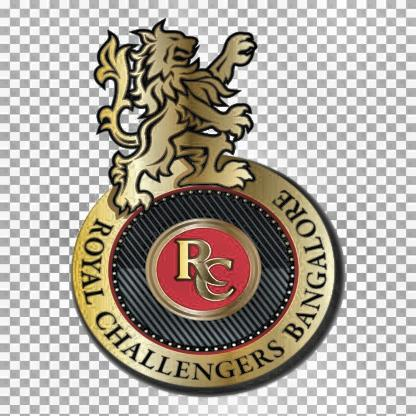Royal Challengers Bangalore: (71, 10, 334, 391)
